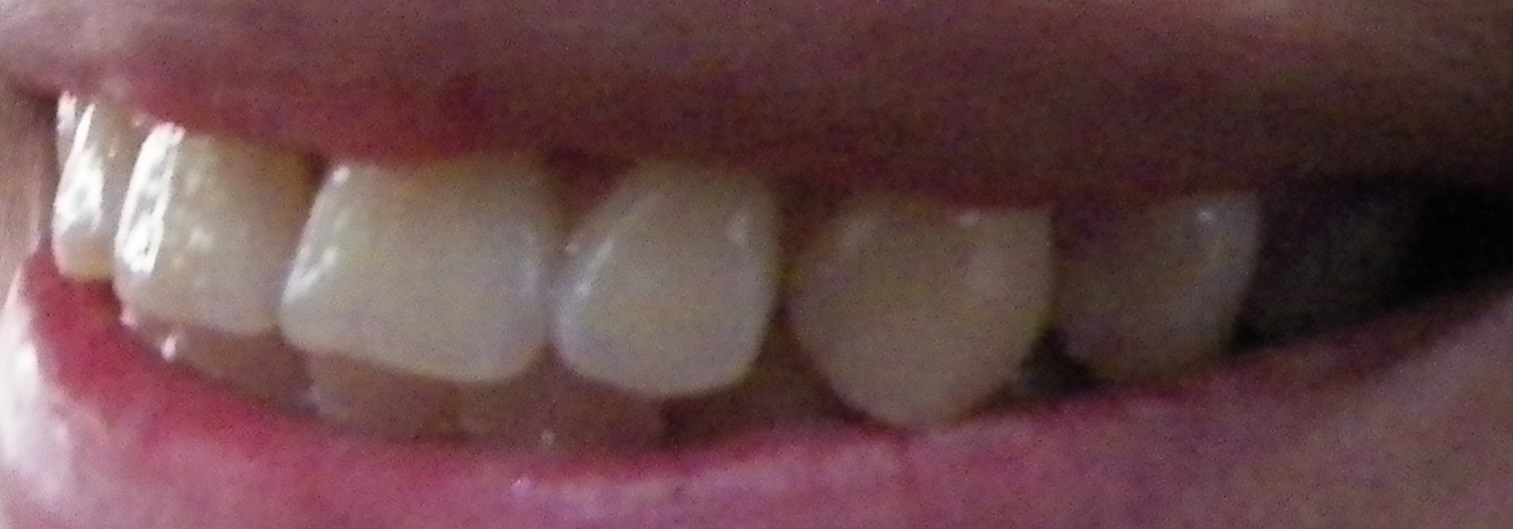boca: (30, 76, 1438, 452)
